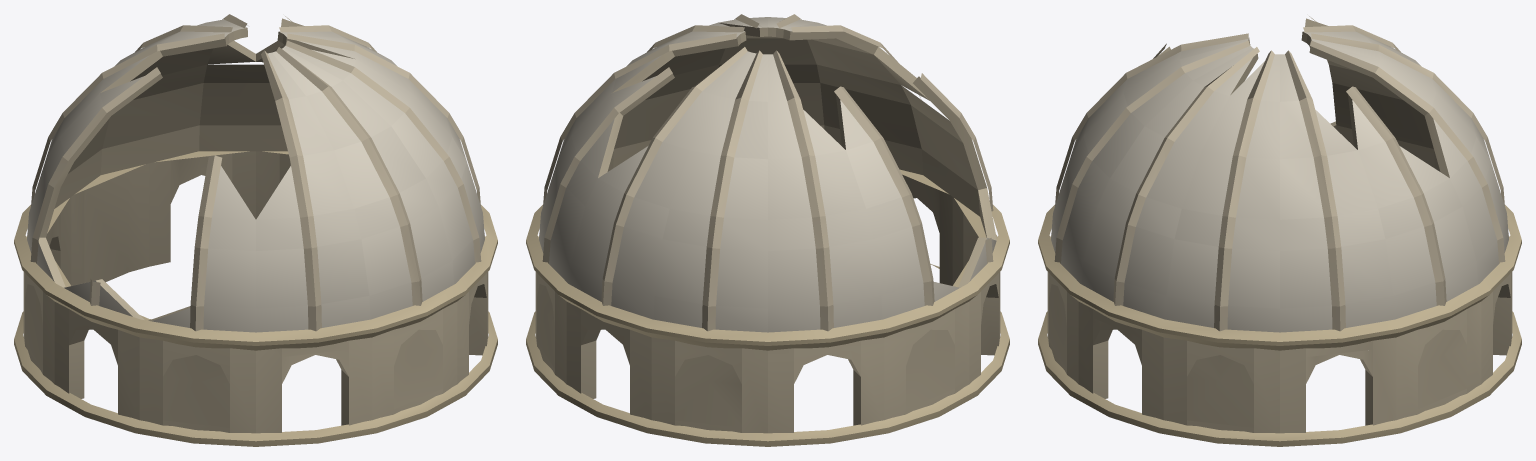
The model's file is dome.hall_ruin_12.plaster.glb.
3 views of the same model, side by side, from view 1: azimuth 30°, elevation 25°; view 2: azimuth 150°, elevation 25°; view 3: azimuth 270°, elevation 25° (orthographic).
Parts seen in each view (by area): view 1: dome_hall_ruin_12_plaster; view 2: dome_hall_ruin_12_plaster; view 3: dome_hall_ruin_12_plaster.
Boxes of the visible parts, box(x1,y1,x2,y2) form: dome_hall_ruin_12_plaster: box(14, 14, 497, 446); dome_hall_ruin_12_plaster: box(526, 14, 1009, 446); dome_hall_ruin_12_plaster: box(1038, 16, 1521, 446).
Size of what is drawn, in the model's own units: 15.2 by 10.67 by 15.2.
